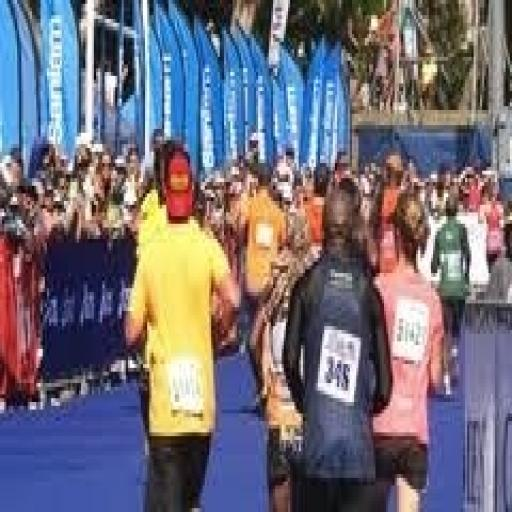running: (122, 148, 241, 508), (280, 171, 394, 508)
